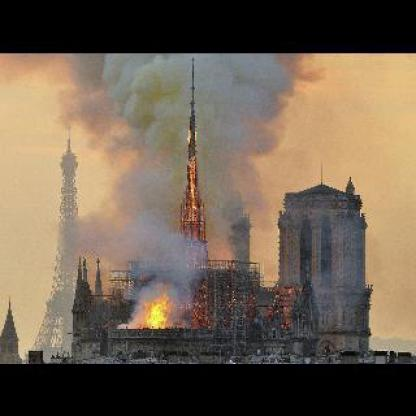fire: (136, 288, 172, 332)
